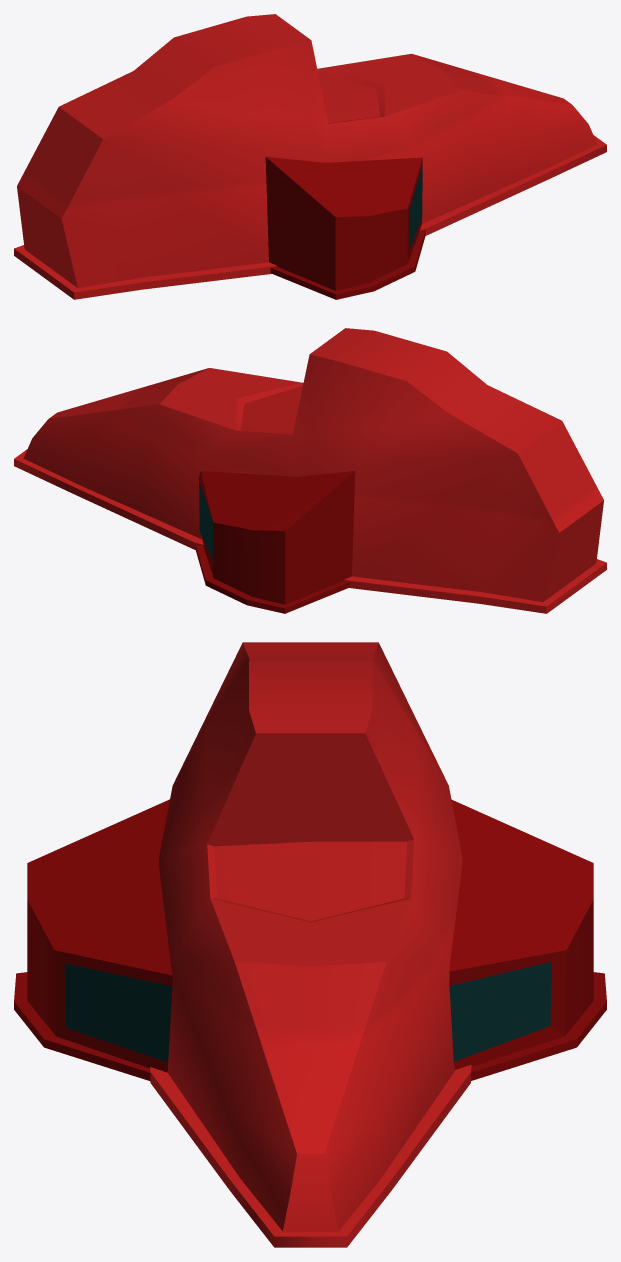
Rendered from BloodDruid_Body.FBX.
3 renders of one model, top to bottom at view 1: azimuth 30°, elevation 25°; view 2: azimuth 150°, elevation 25°; view 3: azimuth 270°, elevation 25°, orthographic. The views are drawn at different scales.
Visible parts, largest first — view 1: BloodDruid_Body; view 2: BloodDruid_Body; view 3: BloodDruid_Body.
Part boxes in pixels (<box>): BloodDruid_Body: <box>14,14,606,299</box>; BloodDruid_Body: <box>14,328,606,613</box>; BloodDruid_Body: <box>14,642,606,1247</box>.
Size of the model in its own units: 220 by 72.69 by 133.
